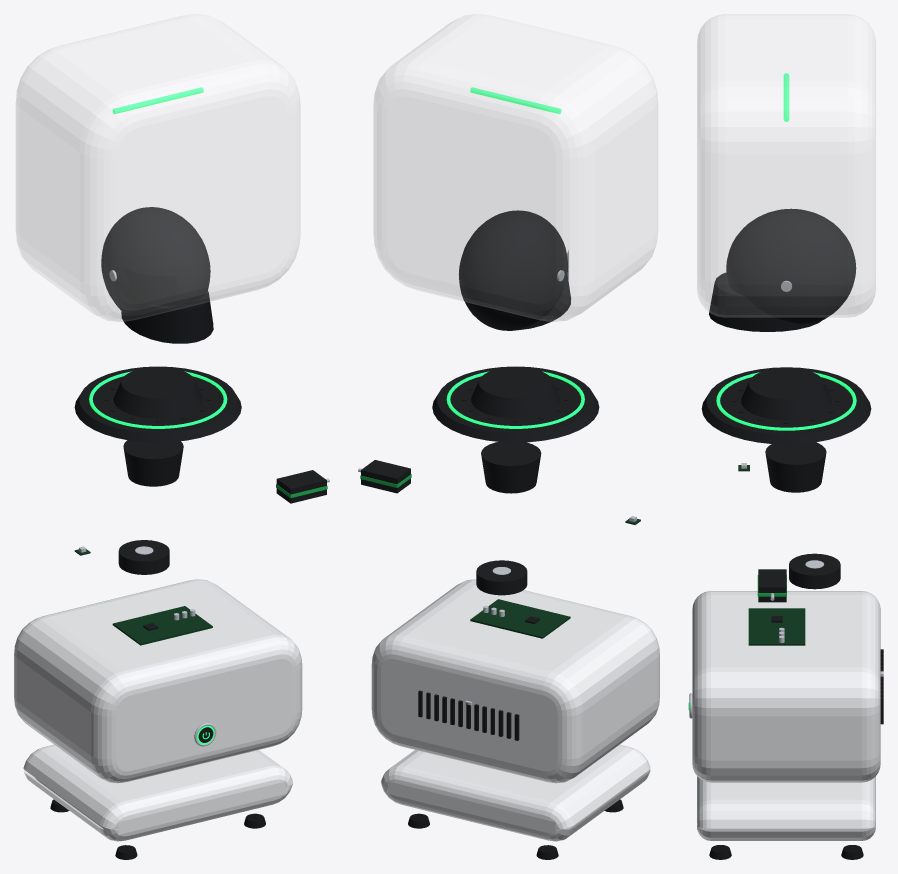
Rendered from odorlock_exploded.glb.
3 views of the same model, side by side, from view 1: azimuth 30°, elevation 25°; view 2: azimuth 150°, elevation 25°; view 3: azimuth 270°, elevation 25° (orthographic).
Parts seen in each view (by area): view 1: OdorLock_TransparentChamber, OdorLock_MainBody, OdorLock_Base, OdorLock_Helmet, OdorLock_HelmetSupport, OdorLock_AirDuct, OdorLock_ControlBoard, OdorLock_Fan, OdorLock_OdorModule, OdorLock_RubberFeet; view 2: OdorLock_TransparentChamber, OdorLock_MainBody, OdorLock_Base, OdorLock_Helmet, OdorLock_HelmetSupport, OdorLock_AirDuct, OdorLock_ControlBoard, OdorLock_Fan, OdorLock_OdorModule, OdorLock_RubberFeet; view 3: OdorLock_TransparentChamber, OdorLock_MainBody, OdorLock_Helmet, OdorLock_Base, OdorLock_HelmetSupport, OdorLock_AirDuct, OdorLock_ControlBoard, OdorLock_Fan, OdorLock_OdorModule, OdorLock_RubberFeet.
Boxes of the visible parts, x1=… form: OdorLock_TransparentChamber: x1=16, y1=14, x2=300, y2=321; OdorLock_MainBody: x1=14, y1=579, x2=302, y2=783; OdorLock_Base: x1=23, y1=744, x2=292, y2=841; OdorLock_Helmet: x1=101, y1=207, x2=213, y2=343; OdorLock_HelmetSupport: x1=74, y1=366, x2=241, y2=442; OdorLock_AirDuct: x1=123, y1=440, x2=183, y2=486; OdorLock_ControlBoard: x1=112, y1=606, x2=212, y2=645; OdorLock_Fan: x1=118, y1=540, x2=169, y2=574; OdorLock_OdorModule: x1=276, y1=470, x2=329, y2=503; OdorLock_RubberFeet: x1=50, y1=799, x2=265, y2=859; OdorLock_TransparentChamber: x1=373, y1=14, x2=657, y2=321; OdorLock_MainBody: x1=371, y1=579, x2=659, y2=783; OdorLock_Base: x1=381, y1=744, x2=650, y2=841; OdorLock_Helmet: x1=458, y1=210, x2=571, y2=330; OdorLock_HelmetSupport: x1=432, y1=366, x2=599, y2=442; OdorLock_AirDuct: x1=481, y1=442, x2=541, y2=493; OdorLock_ControlBoard: x1=470, y1=599, x2=570, y2=638; OdorLock_Fan: x1=476, y1=560, x2=527, y2=595; OdorLock_OdorModule: x1=358, y1=460, x2=411, y2=493; OdorLock_RubberFeet: x1=408, y1=799, x2=623, y2=859; OdorLock_TransparentChamber: x1=697, y1=14, x2=875, y2=317; OdorLock_MainBody: x1=692, y1=591, x2=883, y2=782; OdorLock_Helmet: x1=709, y1=208, x2=856, y2=331; OdorLock_Base: x1=697, y1=776, x2=875, y2=840; OdorLock_HelmetSupport: x1=701, y1=367, x2=871, y2=444; OdorLock_AirDuct: x1=765, y1=442, x2=826, y2=492; OdorLock_ControlBoard: x1=748, y1=608, x2=805, y2=645; OdorLock_Fan: x1=789, y1=553, x2=840, y2=589; OdorLock_OdorModule: x1=757, y1=569, x2=786, y2=602; OdorLock_RubberFeet: x1=709, y1=845, x2=863, y2=859.
Size of the model in its own units: 0.6775 by 1.81 by 0.4142.
